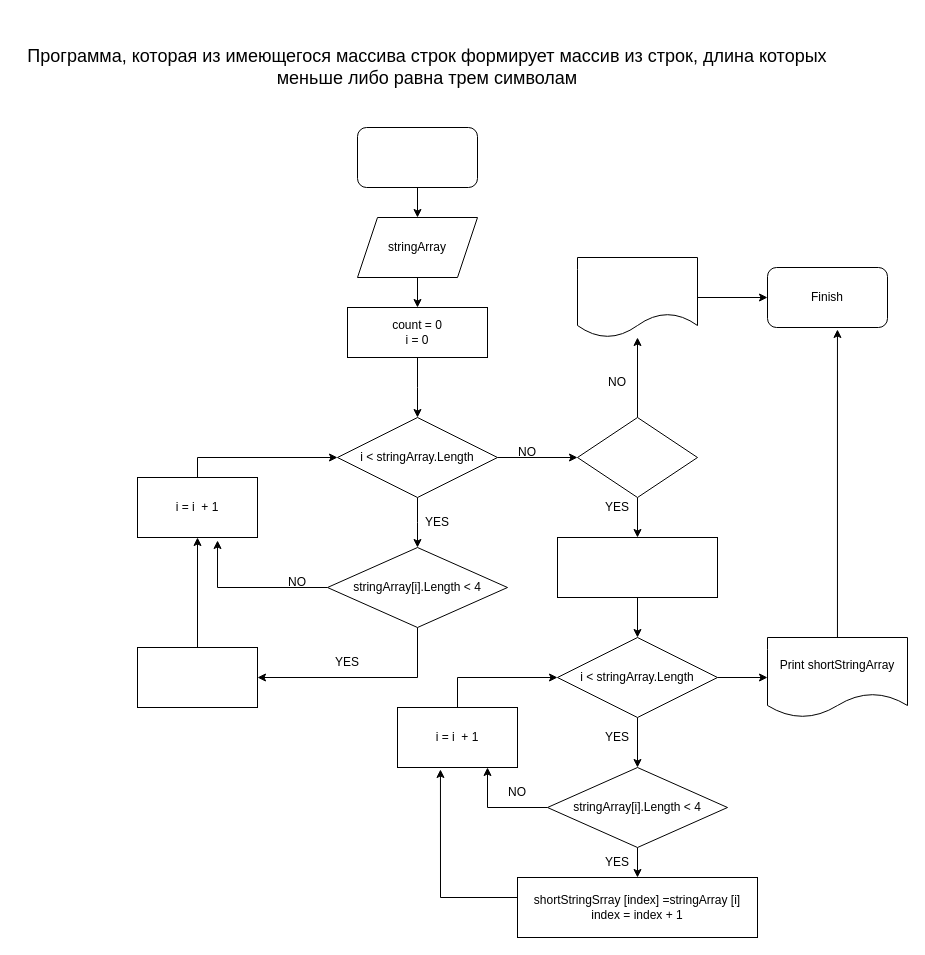
Image size: 925x955. Some labels were removed from this diagram. Here are the shapes that lost their labels. From the top down, the centre of each, then its label:
At [417,157]: "Start".
At [637,297]: "Print [ ]".
At [637,457]: "count > 0".
At [637,567]: "shortStringArray [count] index = 0 i = 0".
At [197,677]: "count = count + 1".
